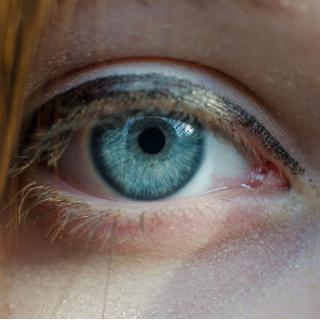pupil: (137, 127, 166, 155)
